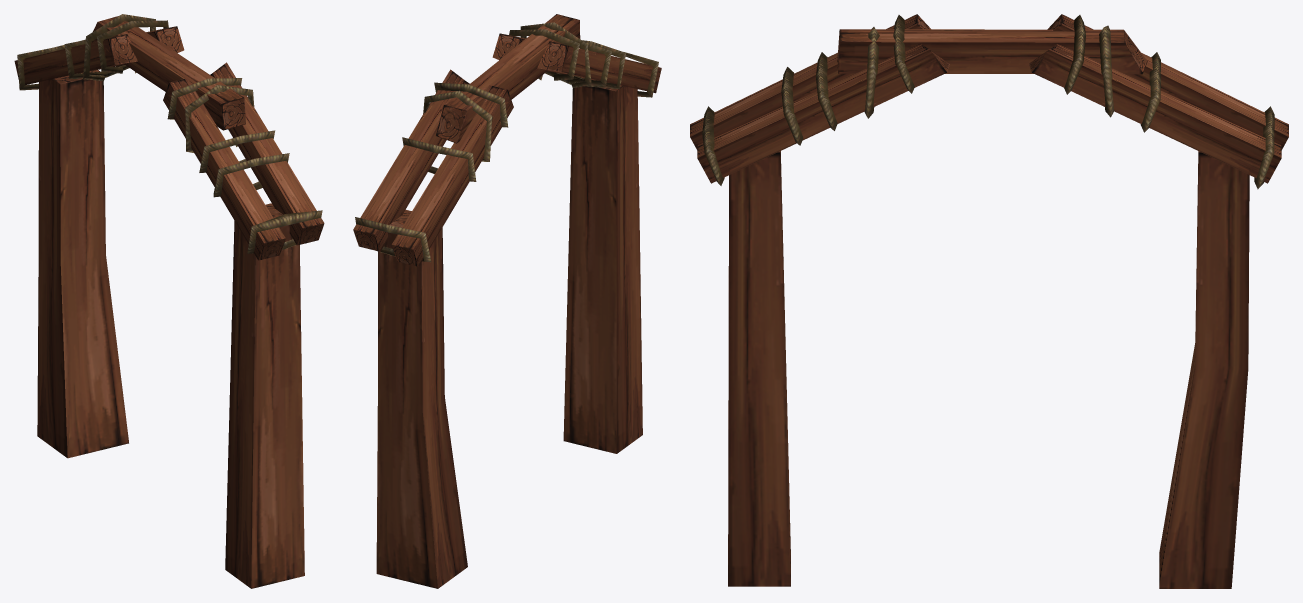
The model's file is 2_YiZhan_MuJiaMen_01.FBX.
The picture shows the model from 3 angles, left to right: view 1: azimuth 30°, elevation 25°; view 2: azimuth 150°, elevation 25°; view 3: azimuth 270°, elevation 25°; orthographic projection. The views are drawn at different scales.
Parts seen in each view (by area): view 1: 2_YiZhan_MuJiaMen_02, 2_YiZhan_MuJiaMen_01; view 2: 2_YiZhan_MuJiaMen_01, 2_YiZhan_MuJiaMen_02; view 3: 2_YiZhan_MuJiaMen_02, 2_YiZhan_MuJiaMen_01.
Part boxes in pixels (left/top/right/bottom): 2_YiZhan_MuJiaMen_02: left=91, top=16, right=324, bottom=588; 2_YiZhan_MuJiaMen_01: left=14, top=14, right=184, bottom=458; 2_YiZhan_MuJiaMen_01: left=353, top=69, right=513, bottom=588; 2_YiZhan_MuJiaMen_02: left=436, top=14, right=661, bottom=453; 2_YiZhan_MuJiaMen_02: left=690, top=14, right=1147, bottom=586; 2_YiZhan_MuJiaMen_01: left=1029, top=14, right=1288, bottom=588.
Bounding box in the file's own units: 76.74 × 452 × 451.
Materials: 1 (1 with a texture image).
